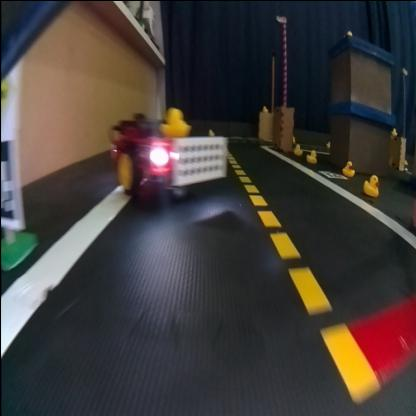Duckie: (162, 107, 190, 135), (363, 175, 379, 195), (342, 160, 355, 174), (309, 148, 315, 162), (296, 143, 302, 150)
Duckiebot: (111, 116, 226, 192)
QR code: (318, 170, 344, 178)
